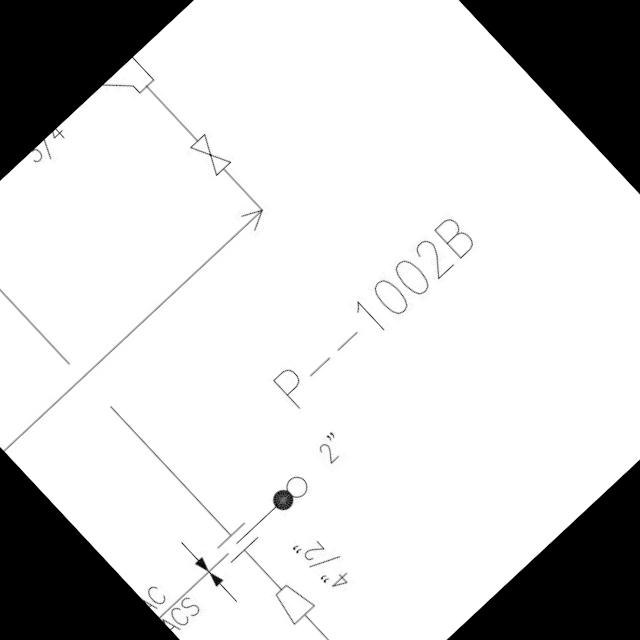GV: (184, 128, 236, 182)
SP: (266, 576, 321, 630)
